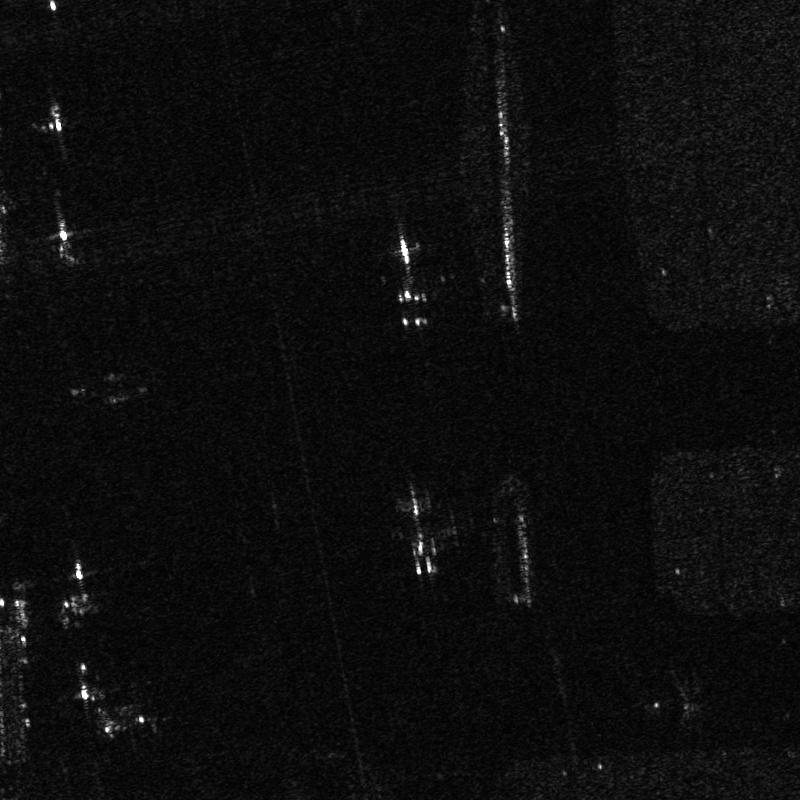A220: (84, 682, 178, 746)
other: (390, 472, 457, 582), (382, 215, 437, 339)
